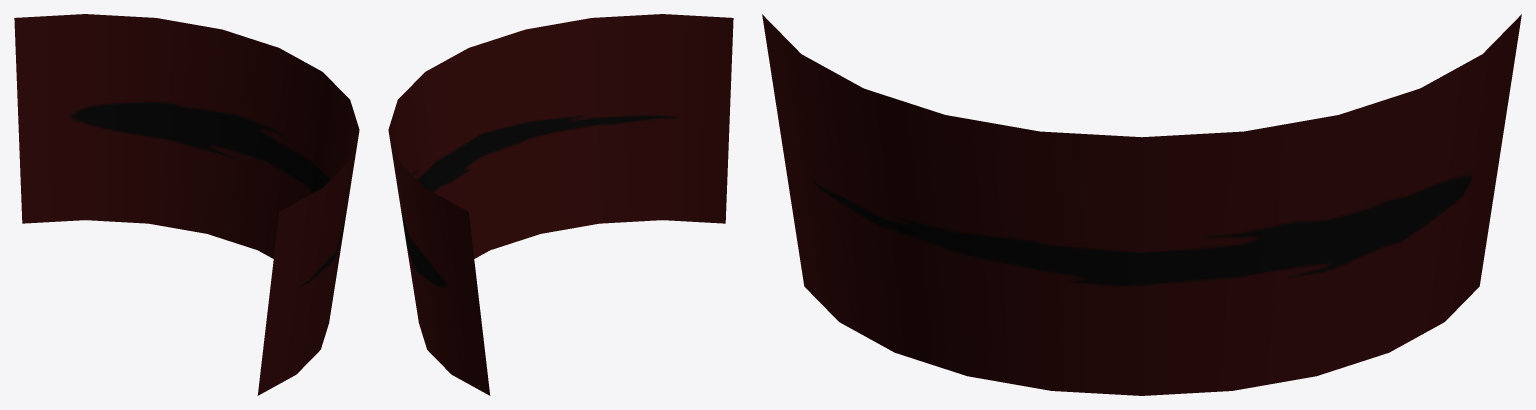
The model's file is ef-common-w2-skill0023_01.FBX.
The picture shows the model from 3 angles, left to right: view 1: azimuth 30°, elevation 25°; view 2: azimuth 150°, elevation 25°; view 3: azimuth 270°, elevation 25°; orthographic projection. The views are drawn at different scales.
Parts seen in each view (by area): view 1: ef-common-w2-skill0023_01; view 2: ef-common-w2-skill0023_01; view 3: ef-common-w2-skill0023_01.
Boxes of the visible parts, bbox=[...] form: ef-common-w2-skill0023_01: bbox=[14, 14, 359, 395]; ef-common-w2-skill0023_01: bbox=[388, 14, 733, 395]; ef-common-w2-skill0023_01: bbox=[762, 14, 1521, 395].
Size of the model in its own units: 69.29 by 70 by 174.
1 material, 1 textured.
